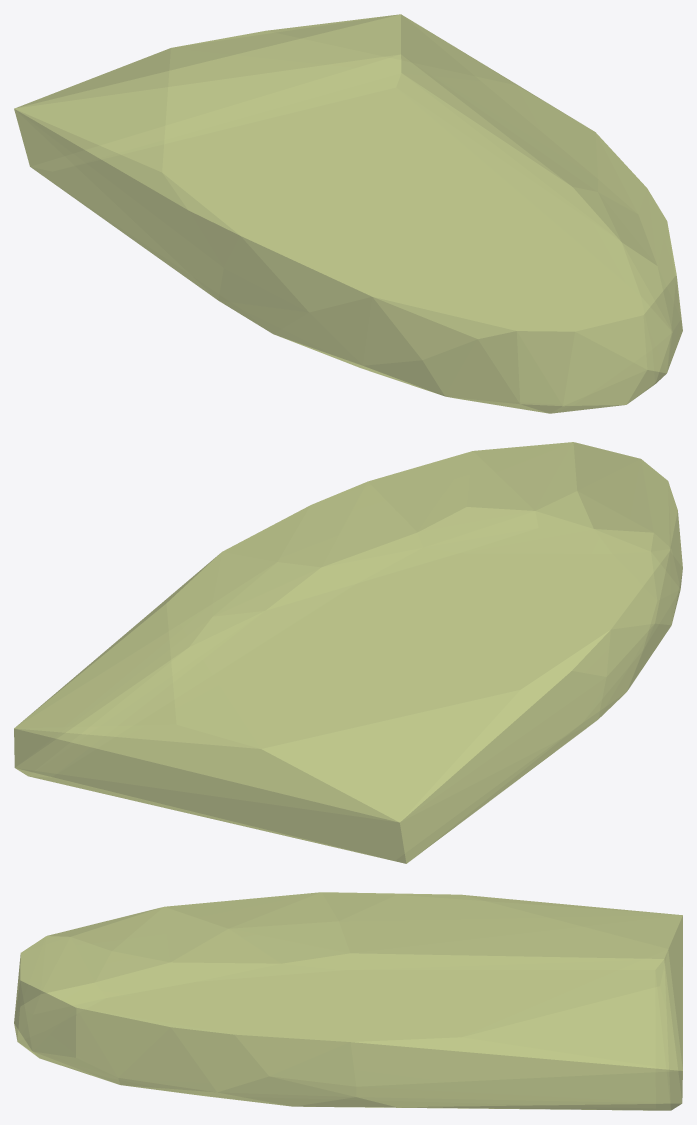
3 renders of one model, top to bottom at view 1: azimuth 30°, elevation 25°; view 2: azimuth 150°, elevation 25°; view 3: azimuth 270°, elevation 25°, orthographic. The views are drawn at different scales.
Parts seen in each view (by area): view 1: Shape_IndexedFaceSet.002_Shape_IndexedFaceSet.3340; view 2: Shape_IndexedFaceSet.002_Shape_IndexedFaceSet.3340; view 3: Shape_IndexedFaceSet.002_Shape_IndexedFaceSet.3340.
Boxes of the visible parts, x1,y1,x2,y2 form: Shape_IndexedFaceSet.002_Shape_IndexedFaceSet.3340: (14,14,682,413); Shape_IndexedFaceSet.002_Shape_IndexedFaceSet.3340: (14,442,682,863); Shape_IndexedFaceSet.002_Shape_IndexedFaceSet.3340: (14,892,682,1110).
Size of the model in its own units: 0.5054 by 0.11 by 0.9176.
